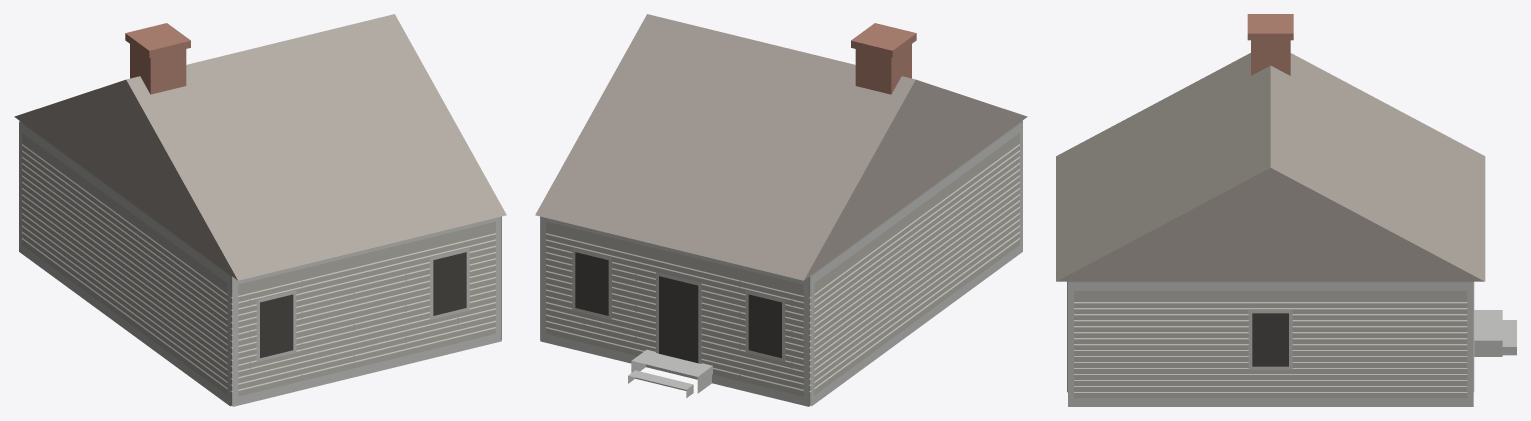
Rendered from recon_1835_south_d4_019__inferred_1835.glb.
3 views of the same model, side by side, from view 1: azimuth 30°, elevation 25°; view 2: azimuth 150°, elevation 25°; view 3: azimuth 270°, elevation 25° (orthographic). The views are drawn at different scales.
Parts seen in each view (by area): view 1: recon_1835_south_d4_019__inferred_1835; view 2: recon_1835_south_d4_019__inferred_1835; view 3: recon_1835_south_d4_019__inferred_1835.
Part boxes in pixels (box(x1,y1,x2,y2)): recon_1835_south_d4_019__inferred_1835: box(14, 14, 506, 406); recon_1835_south_d4_019__inferred_1835: box(535, 14, 1027, 406); recon_1835_south_d4_019__inferred_1835: box(1056, 14, 1516, 406).
Size of the model in its own units: 6.38 by 6.36 by 9.77.
